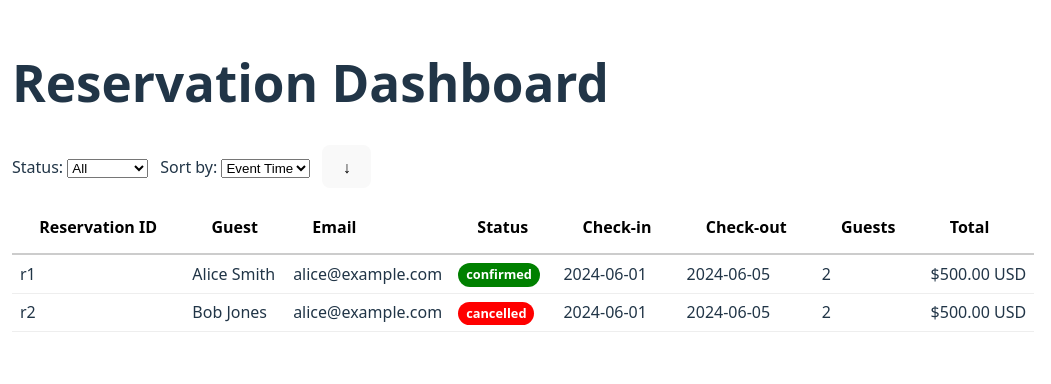
Test: App › 4. status filter hides non-matching rows
The image size is (1051, 384).
Expected: the text "Alice Smith" is shown, top-left (184, 254), bottom-right (285, 293)
Select "confirmed" in the dropdown labelled "Status:". click: (108, 168)
box: top-left (67, 159), bottom-right (148, 178)
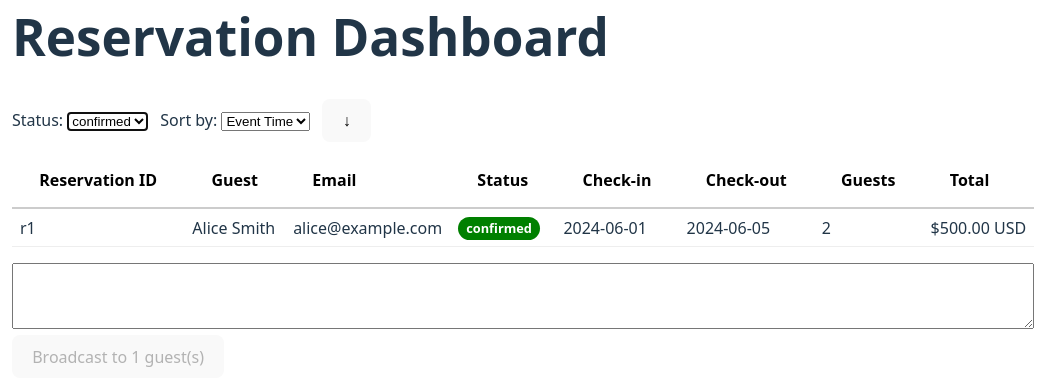
Expected: the text "Alice Smith" is shown, top-left (184, 208), bottom-right (285, 247)
Result: the text "Bob Jones" is gone
